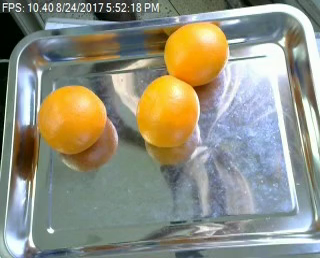Orange: (36, 84, 107, 154), (136, 75, 199, 148), (162, 21, 229, 86)
